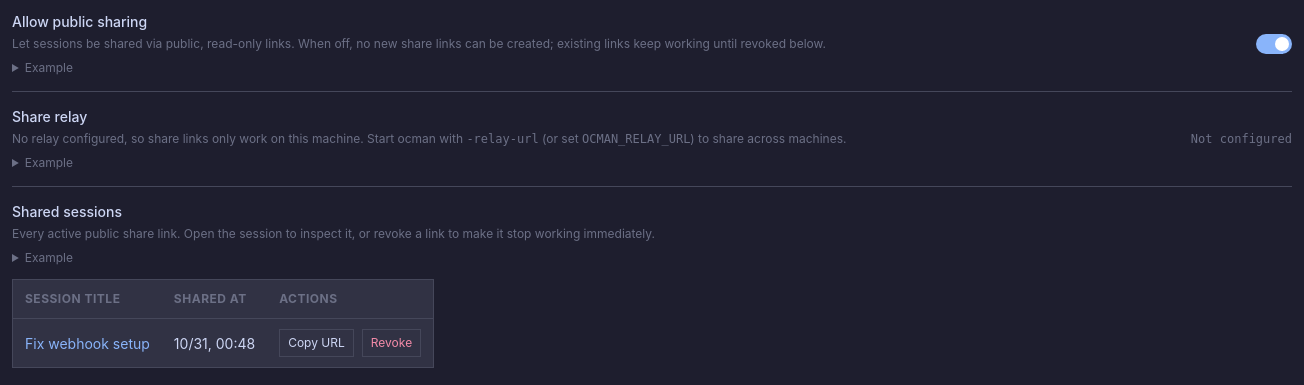
Test: SharingSettings › lists shared sessions and revokes via the per-session endpoint
Expected: the column headings read "Session title", "Shared at", "Actions", in this order, x1=13 y1=280 x2=162 y2=318; x1=162 y1=280 x2=267 y2=318; x1=267 y1=280 x2=433 y2=318
Click the button "Revoke".
click(391, 343)  # box x1=362 y1=329 x2=421 y2=357
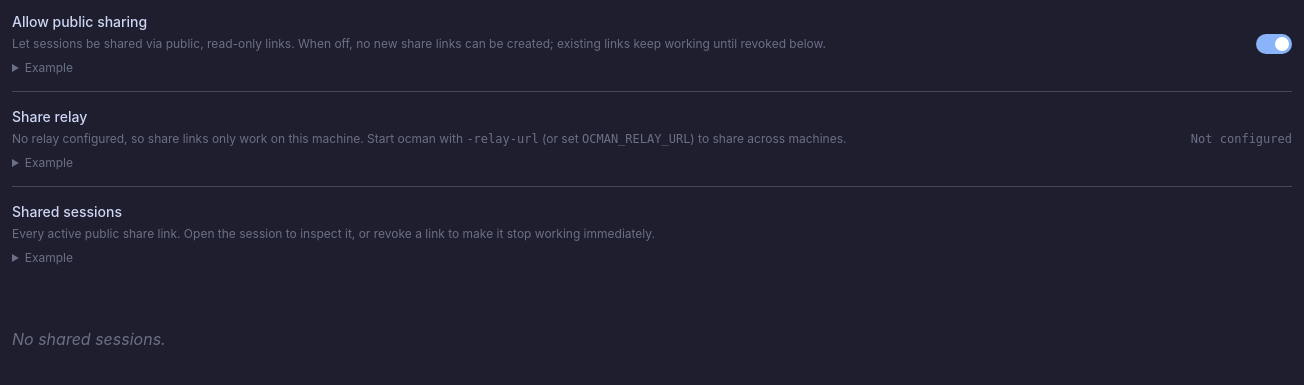
Result: the text "No shared sessions." is shown at x1=12 y1=329 x2=166 y2=349
Result: the table is gone
